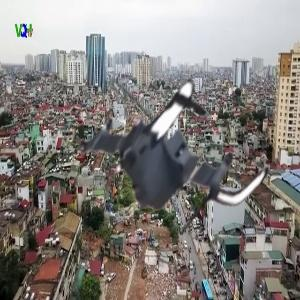drone: (78, 58, 271, 251)
